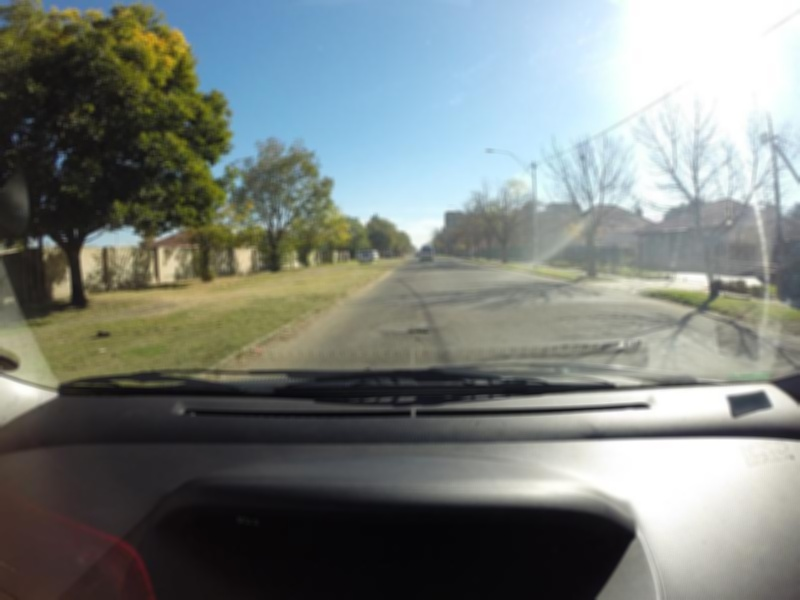pothole: (398, 328, 432, 335)
